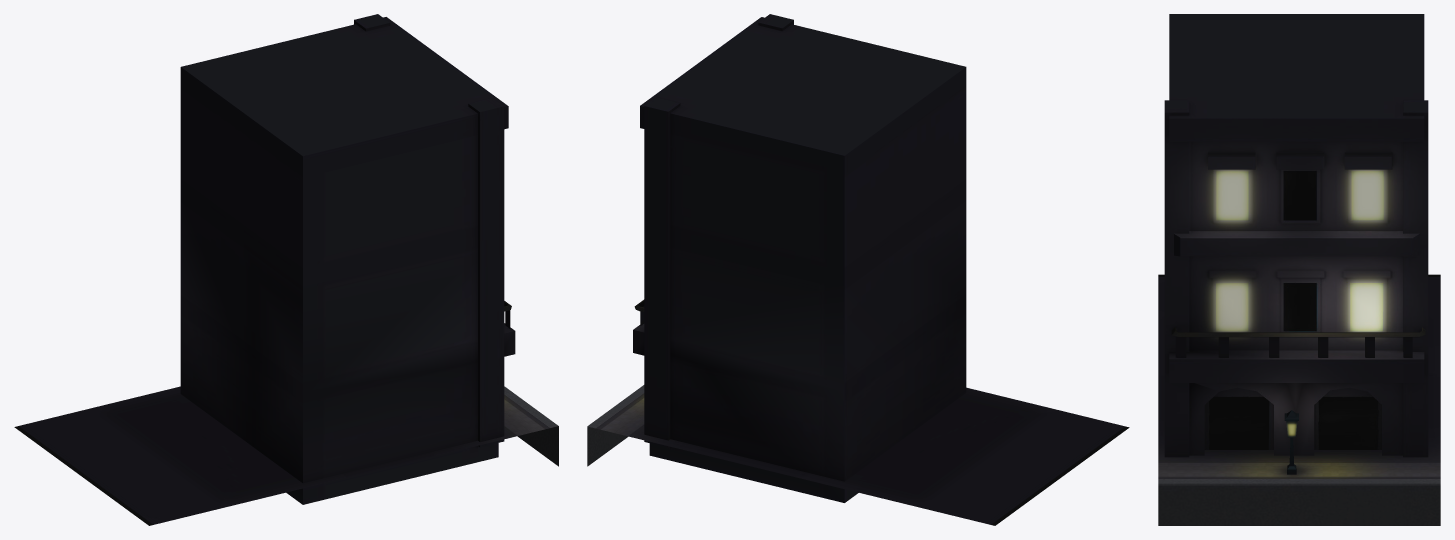
3 views of the same model, side by side, from view 1: azimuth 30°, elevation 25°; view 2: azimuth 150°, elevation 25°; view 3: azimuth 270°, elevation 25° (orthographic). The views are drawn at different scales.
Visible parts, largest first — view 1: modelB001; view 2: modelB001; view 3: modelB001.
Part boxes in pixels (x1=…): modelB001: x1=14, y1=14, x2=558, y2=525; modelB001: x1=587, y1=14, x2=1129, y2=525; modelB001: x1=1158, y1=14, x2=1440, y2=525.
Bounding box in the file's own units: 276 × 238 × 157.
Materials: 1 (1 with a texture image).
